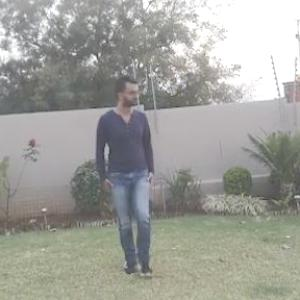follow: (96, 66, 159, 283)
